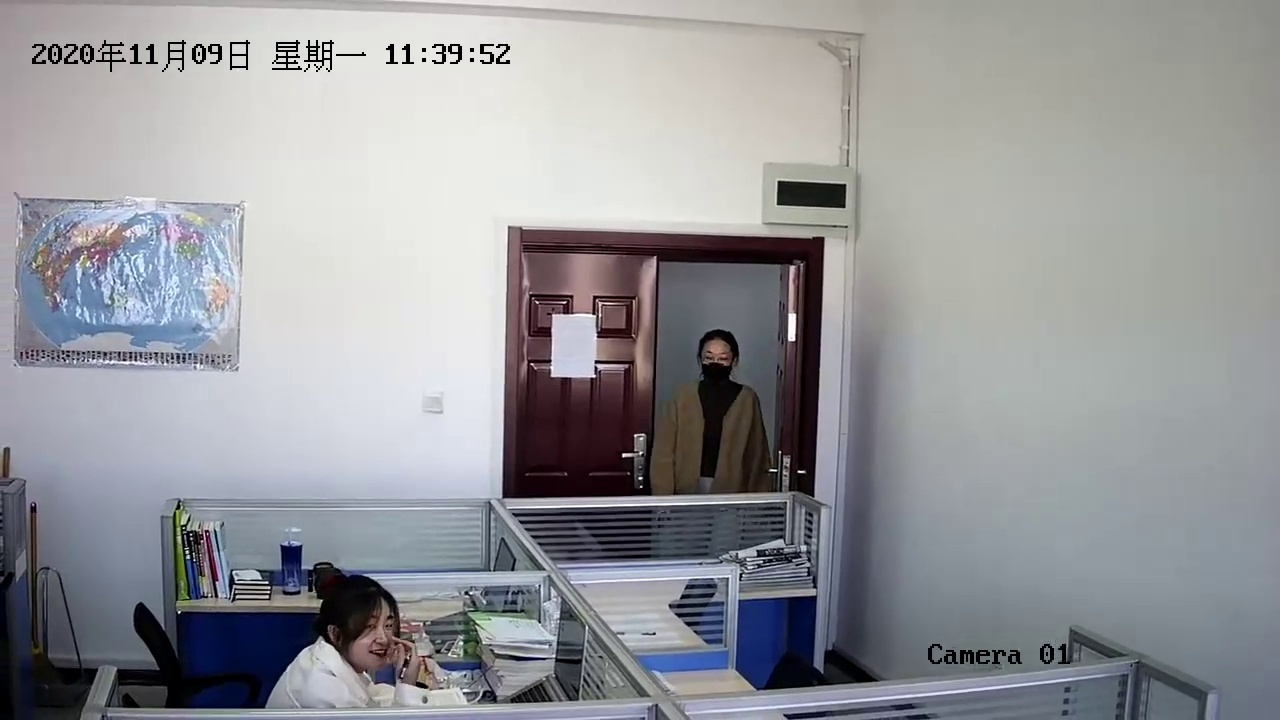mask: (696, 330, 736, 387)
